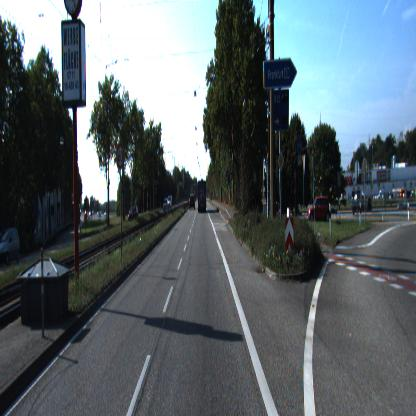car: (2, 230, 22, 266), (310, 199, 332, 223)
